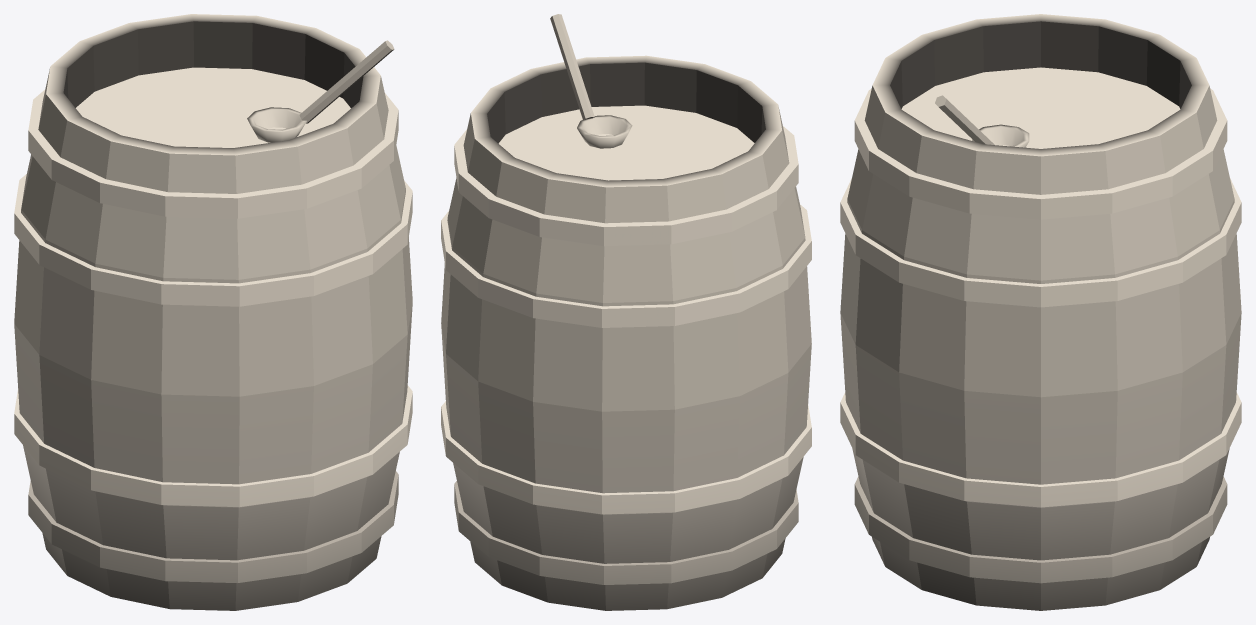
Rendered from SM_VKI_Prop_Barrel_Water.fbx.
3 renders of one model, left to right at view 1: azimuth 30°, elevation 25°; view 2: azimuth 150°, elevation 25°; view 3: azimuth 270°, elevation 25°, orthographic. The views are drawn at different scales.
Parts seen in each view (by area): view 1: SM_VKI_Prop_Barrel_Water.001; view 2: SM_VKI_Prop_Barrel_Water.001; view 3: SM_VKI_Prop_Barrel_Water.001.
Part boxes in pixels (left/top/right/bottom): SM_VKI_Prop_Barrel_Water.001: left=14, top=14, right=412, bottom=610; SM_VKI_Prop_Barrel_Water.001: left=441, top=14, right=811, bottom=610; SM_VKI_Prop_Barrel_Water.001: left=840, top=14, right=1241, bottom=610.
Bounding box in the file's own units: 0.8 × 1.11 × 0.8.
